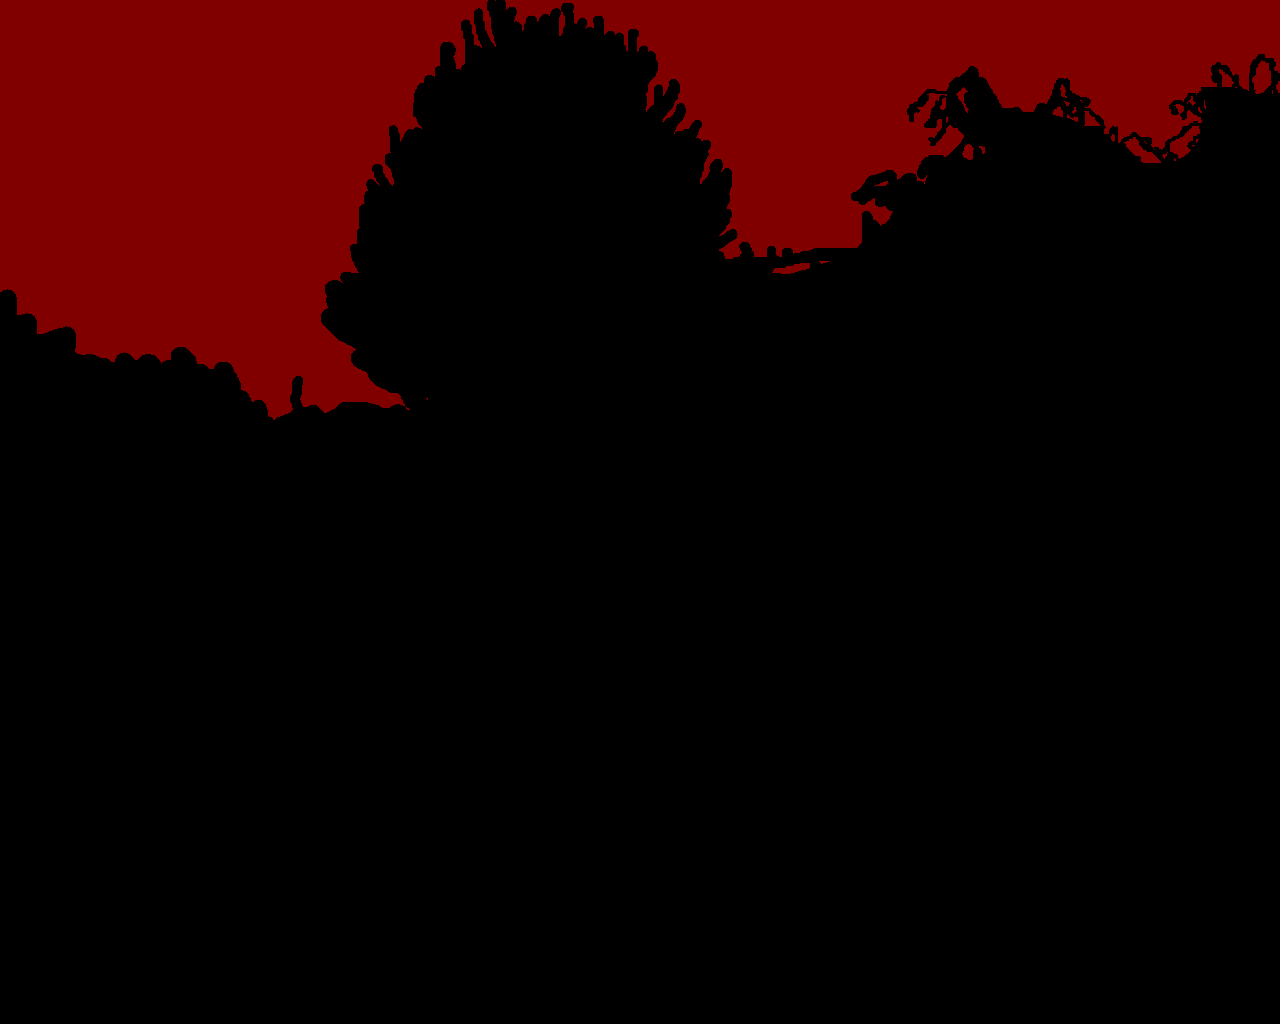Sky: (1, 1, 1279, 420)
